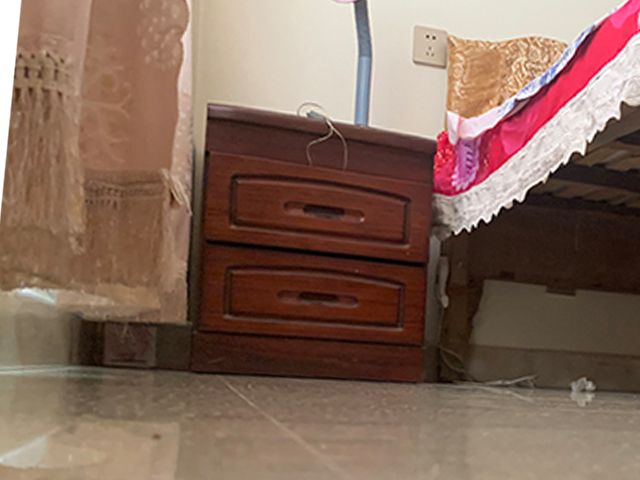bed: (433, 1, 640, 380)
cabinet: (191, 101, 438, 384)
curtain: (1, 1, 190, 326)
wire: (427, 334, 541, 390)
